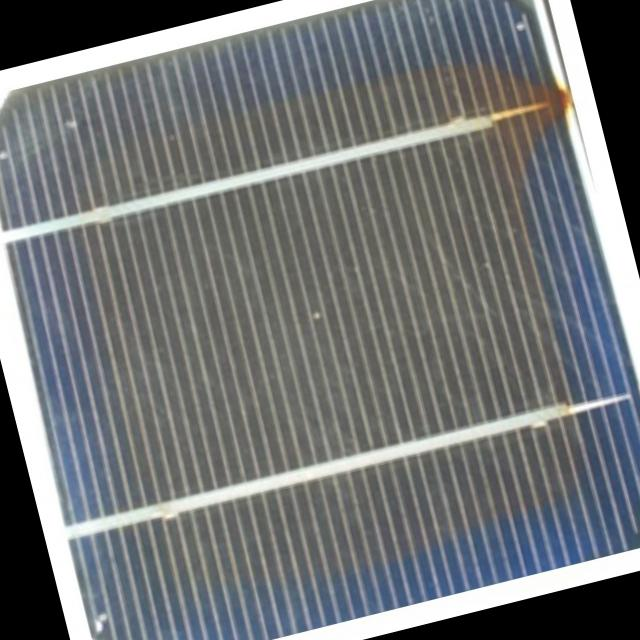faulty: (18, 15, 640, 634)
